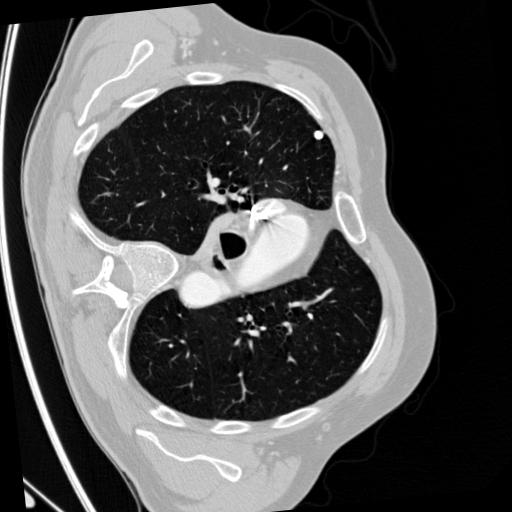nodule: (311, 128, 327, 144)
